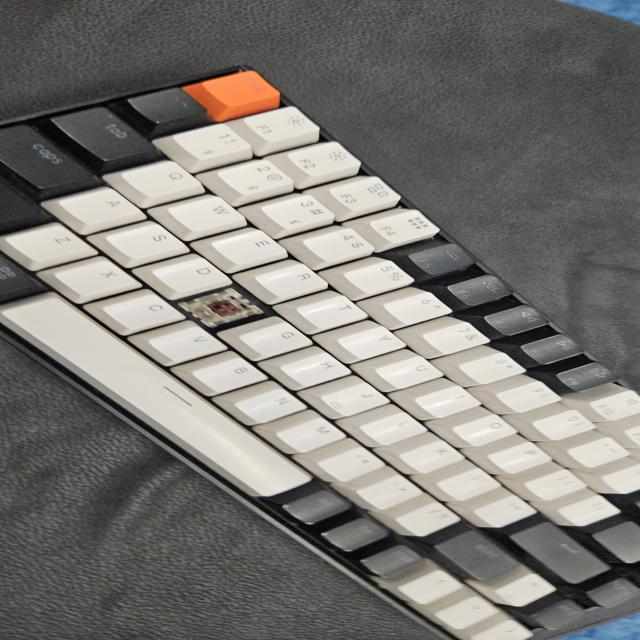C: (198, 296, 257, 322)
